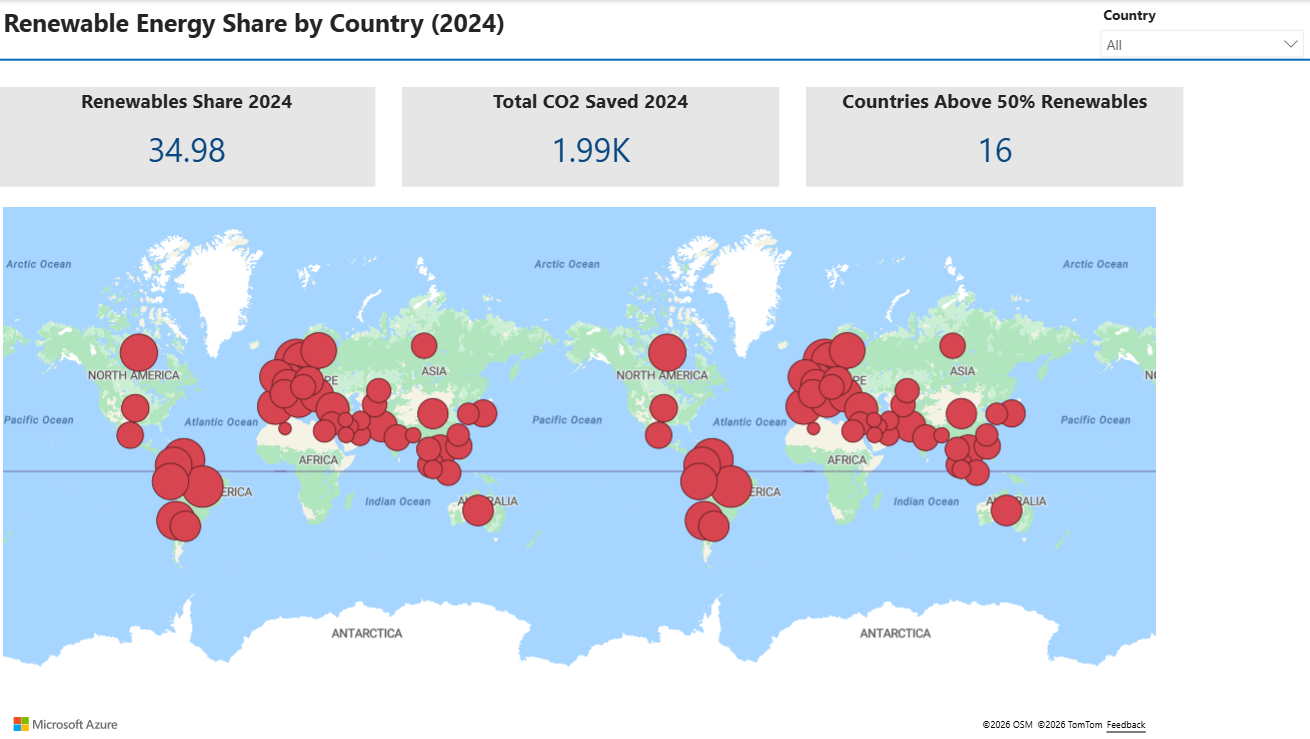

What the dashboard file says about the page in this screenshot:
{"tool":"powerbi","page":{"name":"1_Global_Overview","canvas":[1280,720],"ordinal":0},"visuals":[{"type":"card","title":"Renewables Share 2024","fields":{"Values":["Avg(fact_energy.renewables_share_pct)"]},"box":[0,85,367,97],"z":0},{"type":"card","title":"Total CO2 Saved 2024","fields":{"Values":["Sum(fact_energy.co2_saved_solar_wind_mt)"]},"box":[393,85,367,97],"z":1000},{"type":"card","title":"Countries Above 50% Renewables","fields":{"Values":["fact_energy.Countries Above 50%"]},"box":[786,85,367,97],"z":2000},{"type":"azureMap","fields":{"Category":["dim_country.country"],"Size":["Avg(fact_energy.renewables_share_pct)"]},"box":[0,196,1131,524],"z":3000},{"type":"textbox","box":[0,0,501.9,50.6],"z":4000},{"type":"slicer","fields":{"Values":["fact_energy.country"]},"box":[1062,0,218,59],"z":5000},{"type":"shape","box":[0,51,1280,15],"z":6000}]}

Visuals, with their boxes in screenshot pixels (x1, y1, x2, y2), scaled from the page's 1280x720 canvas onto the 1310x739 screenshot:
"Renewables Share 2024" card: x1=0, y1=87, x2=376, y2=187
"Total CO2 Saved 2024" card: x1=402, y1=87, x2=778, y2=187
"Countries Above 50% Renewables" card: x1=804, y1=87, x2=1180, y2=187
azureMap - dim_country.country x Avg(fact_energy.renewables_share_pct): x1=0, y1=201, x2=1158, y2=738
textbox: x1=0, y1=0, x2=514, y2=52
slicer - fact_energy.country: x1=1087, y1=0, x2=1309, y2=61
shape: x1=0, y1=52, x2=1309, y2=68
